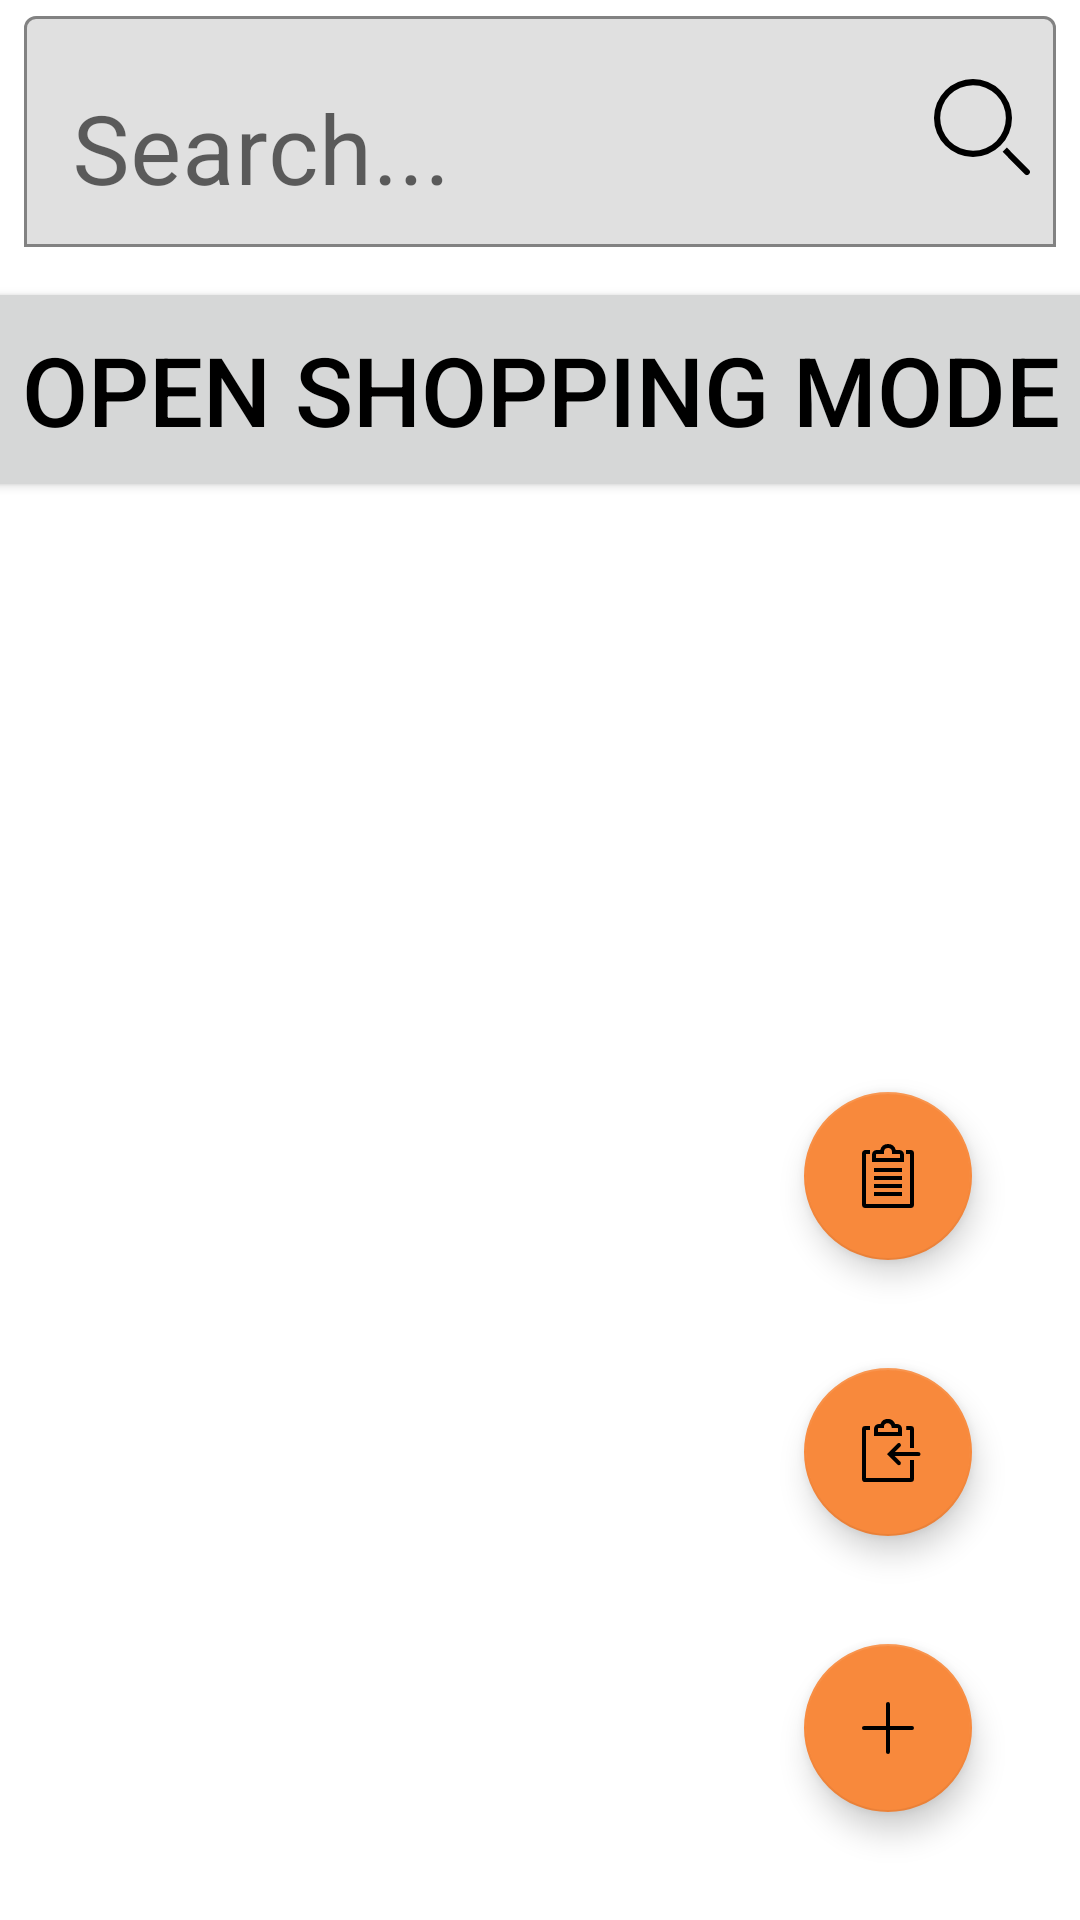

Point at icon controls on the screen. Image size 1080*1920, points as point (x, y).
plus: point (888, 1728)
preset: point (888, 1176)
preset push: point (888, 1452)
